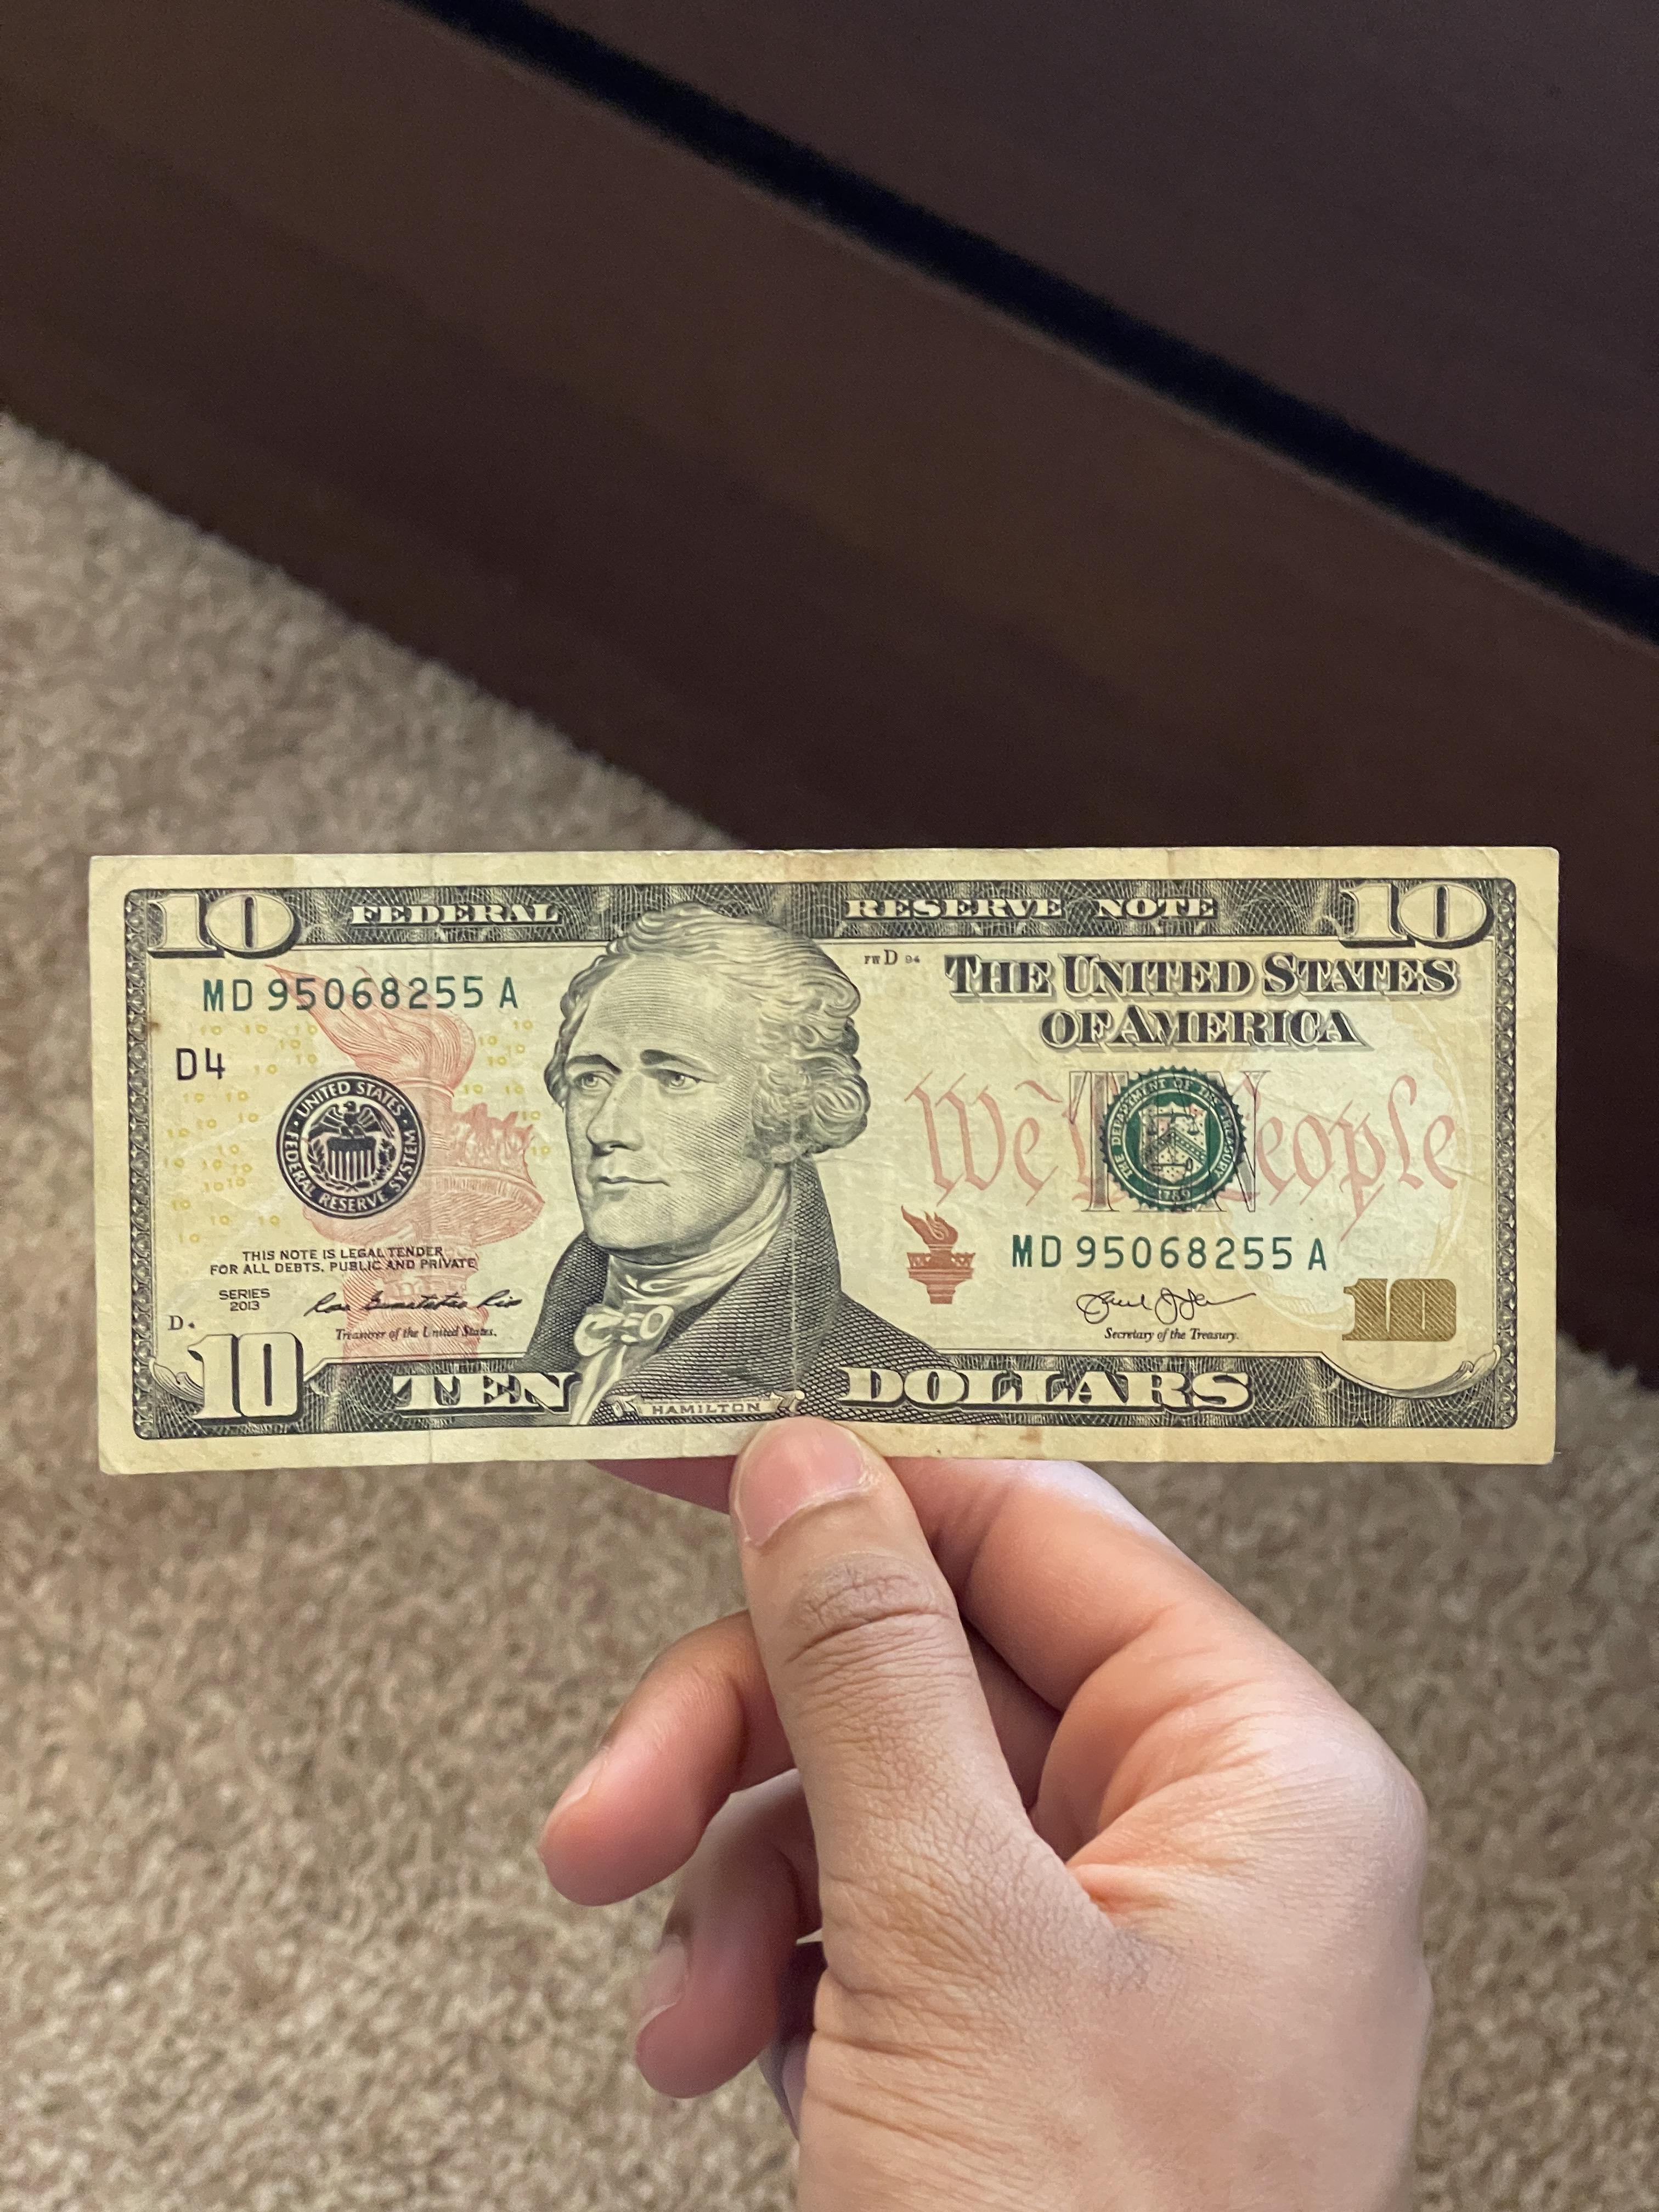TenBill: (80, 840, 1568, 1480)
